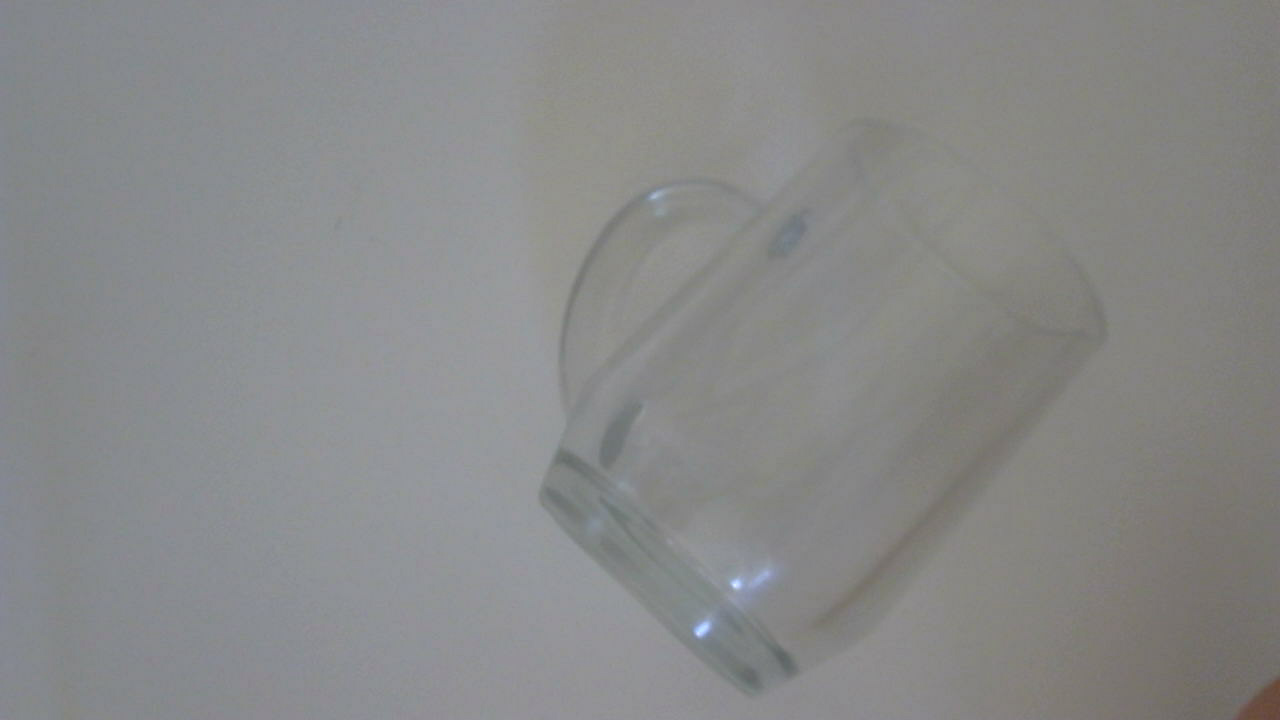Glass: (506, 108, 1130, 684)
